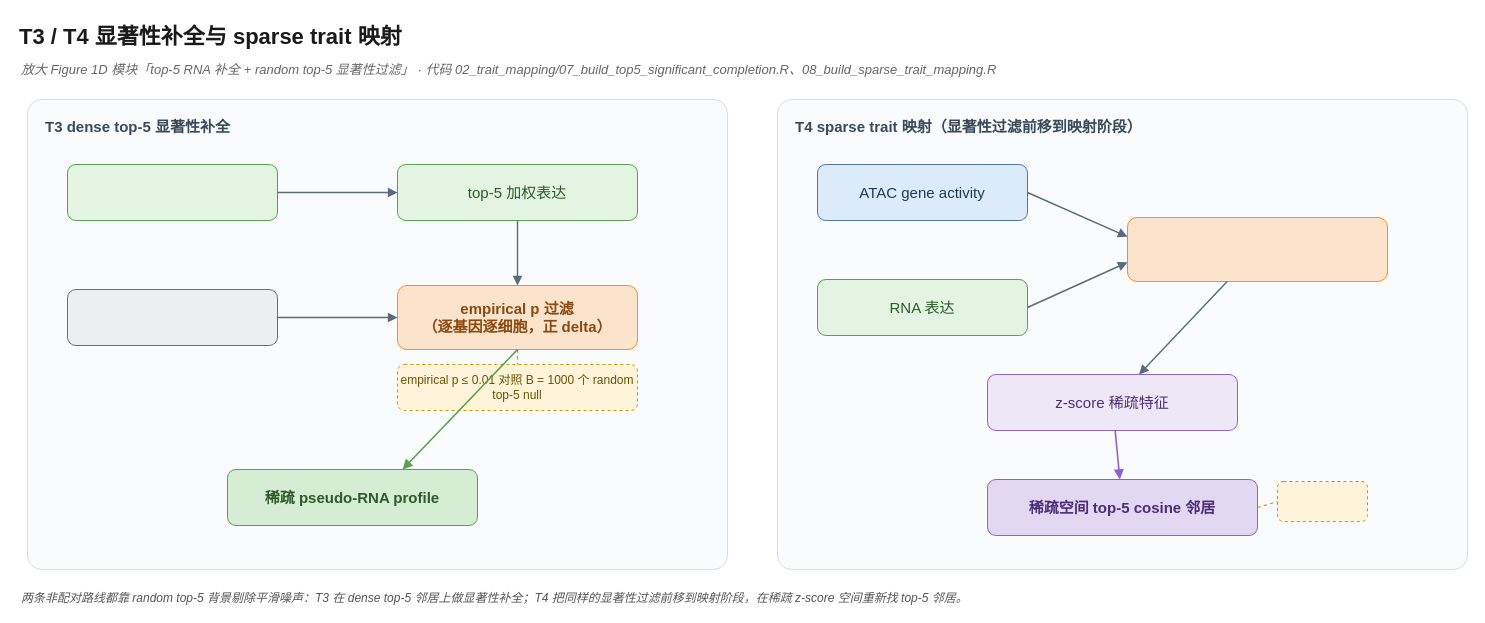
This 1485x623 diagram has some shape labels left out. The shapes that lost their labels are listed below. From the top down, each one's centre as x and y in pixels, then its label:
At (172,192): "top-5 RNA 邻居".
At (1257,249): "逐基因背景显著性过滤 （ATAC、RNA 两侧各自做）".
At (172,317): "random top-5 背景（B = 1000）".
At (1322,501): "top-5".
